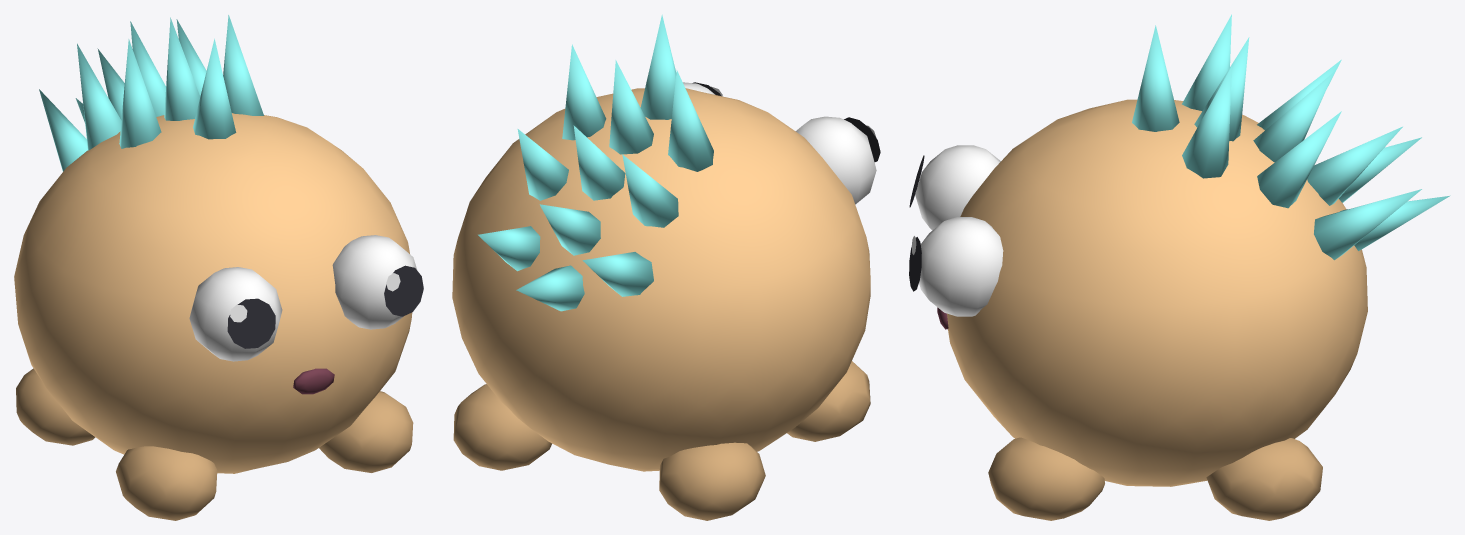
The model's file is Emberchin.fbx.
3 renders of one model, left to right at view 1: azimuth 30°, elevation 25°; view 2: azimuth 150°, elevation 25°; view 3: azimuth 270°, elevation 25°, orthographic. The views are drawn at different scales.
Parts seen in each view (by area): view 1: Emberchin; view 2: Emberchin; view 3: Emberchin.
Boxes of the visible parts, x1,y1,x2,y2 form: Emberchin: [14, 15, 423, 520]; Emberchin: [452, 14, 880, 520]; Emberchin: [909, 14, 1450, 520].
Size of the model in its own units: 1.96 by 2.24 by 2.5.
